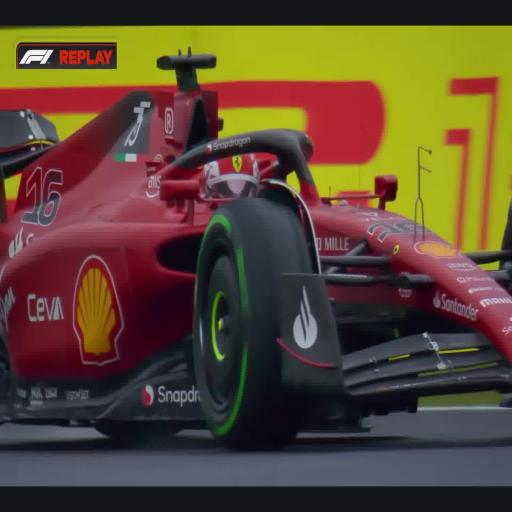f1_car: (0, 49, 512, 448), (418, 162, 420, 168)
